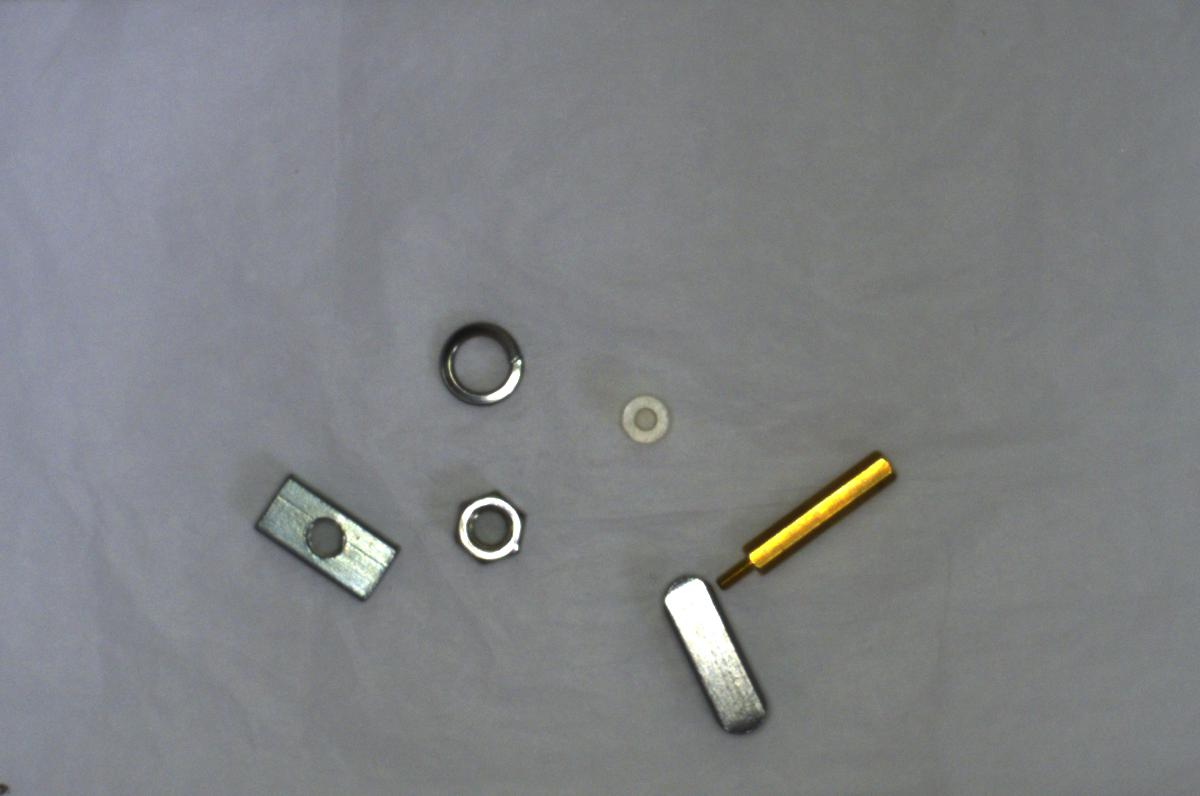Hexagon nut: (441, 487, 538, 562)
Hexagon pillar: (713, 436, 901, 592)
Keybar: (657, 562, 778, 739)
Plastic cushion pillar: (615, 386, 673, 450)
Rectangular nut: (248, 467, 400, 601)
Spring washer: (428, 310, 542, 419)
